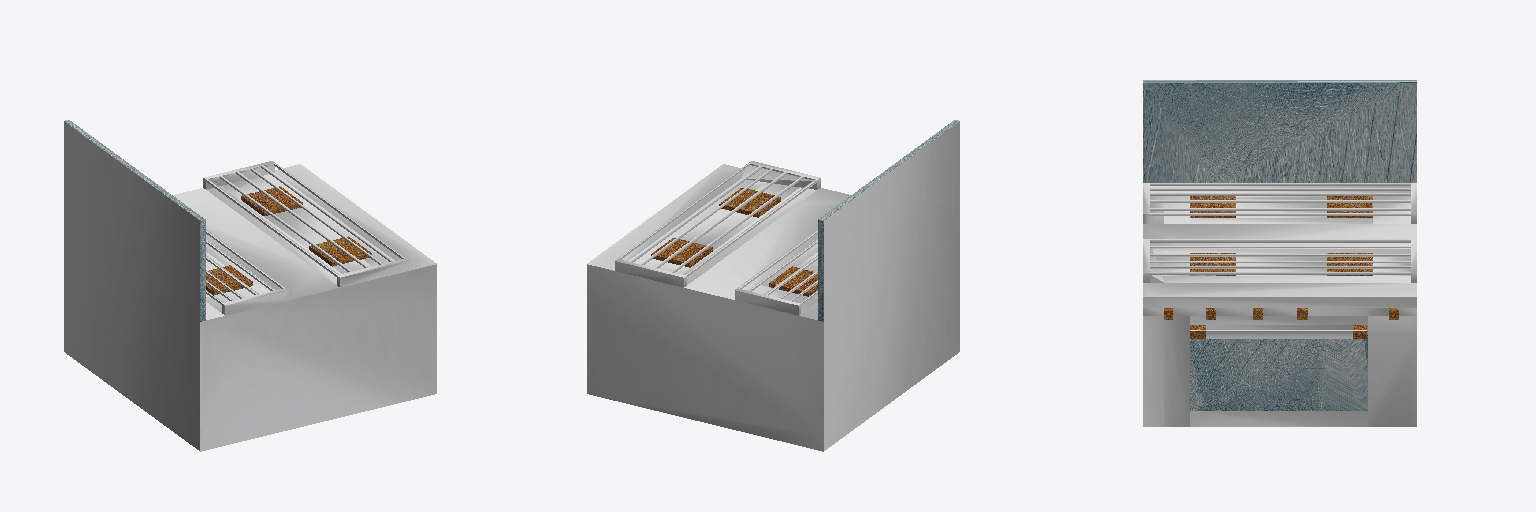
3 views of the same model, side by side, from view 1: azimuth 30°, elevation 25°; view 2: azimuth 150°, elevation 25°; view 3: azimuth 270°, elevation 25° (orthographic).
Parts seen in each view (by area): view 1: Cube; view 2: Cube; view 3: Cube.
Part boxes in pixels (x1,y1,x2,y2): Cube: (64, 120, 436, 451); Cube: (587, 120, 959, 451); Cube: (1143, 80, 1416, 426).
Size of the model in its own units: 2.09 by 1.86 by 2.
3 materials, 3 textured.